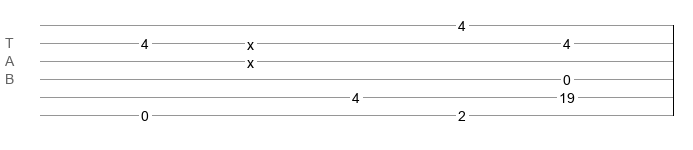0: (141, 108, 149, 118), (563, 72, 571, 82)
19: (559, 90, 575, 100)
2: (458, 108, 466, 118)
4: (141, 36, 149, 46), (352, 90, 360, 100), (458, 18, 466, 28), (563, 36, 571, 46)
x: (247, 37, 254, 45), (247, 55, 254, 63)
